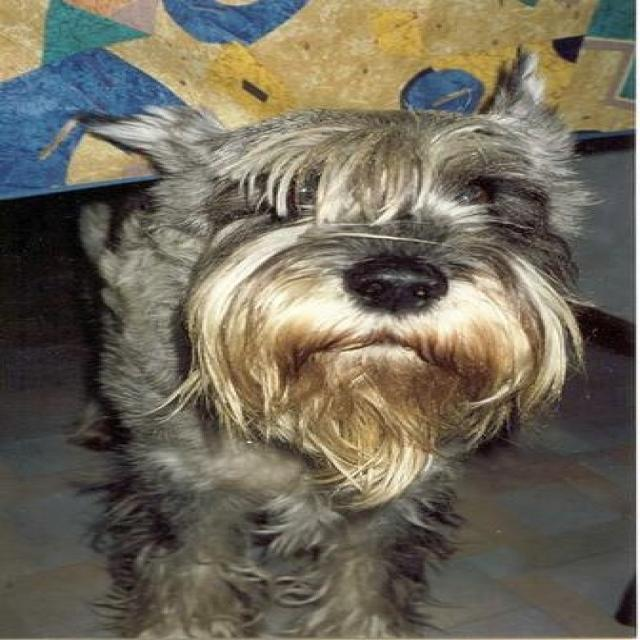standard_schnauzer: (71, 48, 598, 630)
